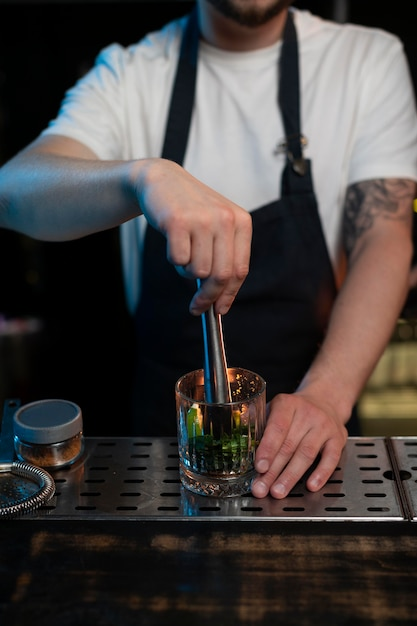alcohol: (173, 360, 271, 498)
